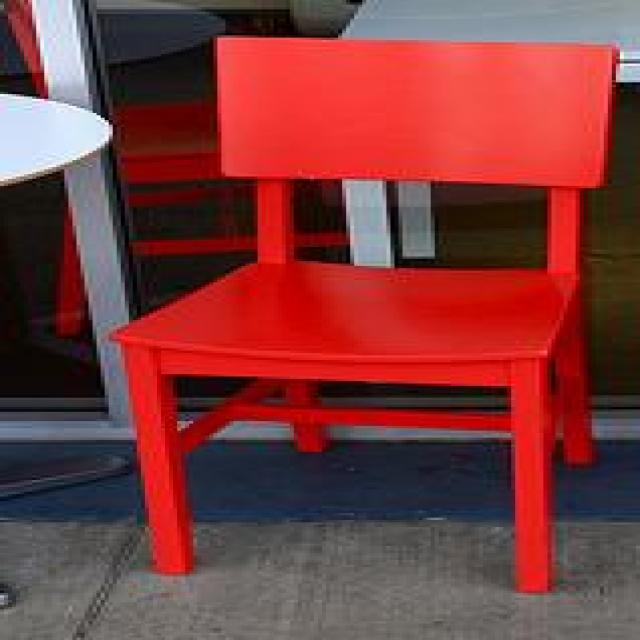chair: (104, 36, 620, 596)
